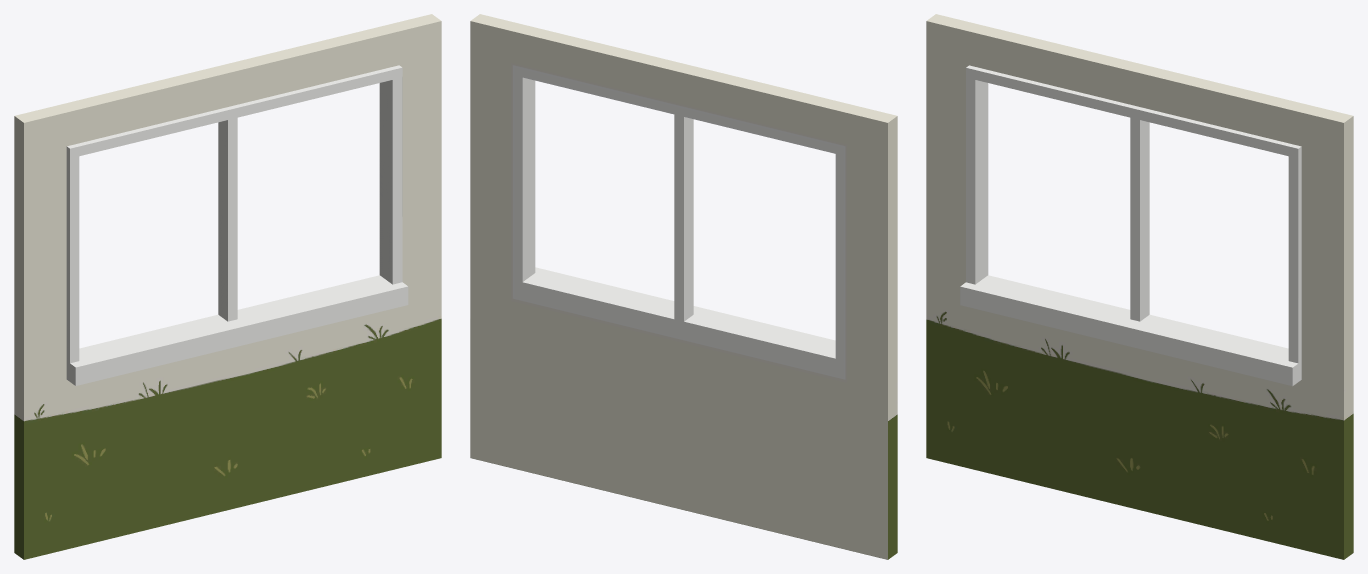
File: WindowWallSegment.fbx
The picture shows the model from 3 angles, left to right: view 1: azimuth 30°, elevation 25°; view 2: azimuth 150°, elevation 25°; view 3: azimuth 330°, elevation 25°; orthographic projection.
Visible parts, largest first — view 1: Cube.082; view 2: Cube.082; view 3: Cube.082.
Boxes of the visible parts, <box> form: Cube.082: <box>14,14,441,559</box>; Cube.082: <box>470,14,897,559</box>; Cube.082: <box>926,14,1353,559</box>.
Bounding box in the file's own units: 7500 × 7500 × 579.
